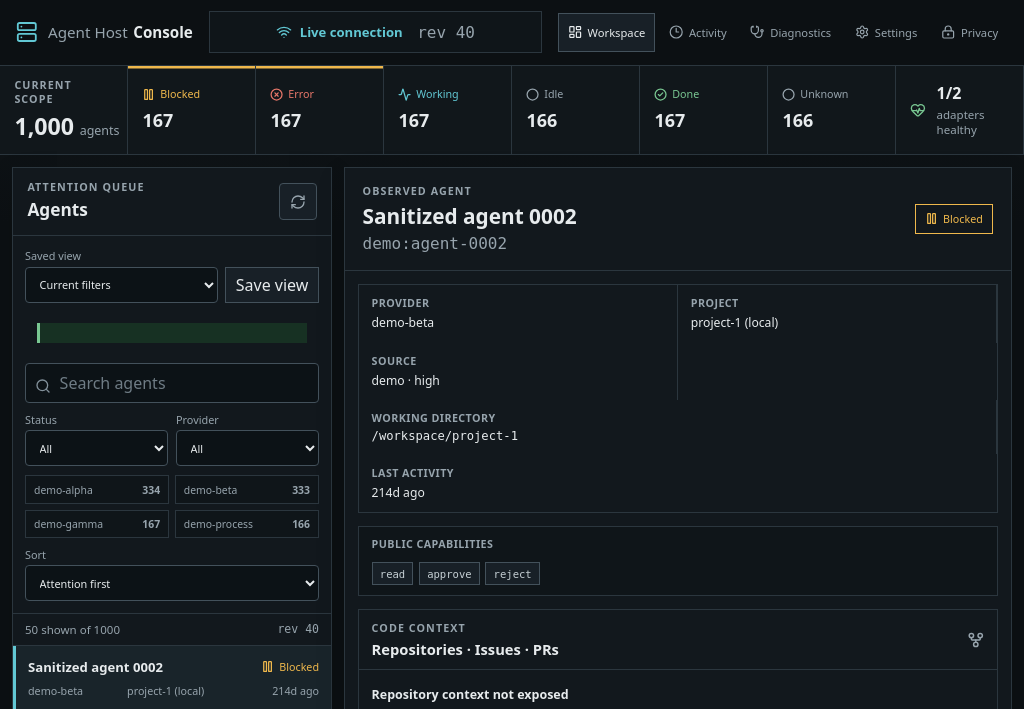
Test: evaluation dashboard › opens sanitized diagnostics and focuses search with the slash shortcut
expect the text "50 shown of 1000" is shown: met, box [25,622,120,637]
Type keys "/"
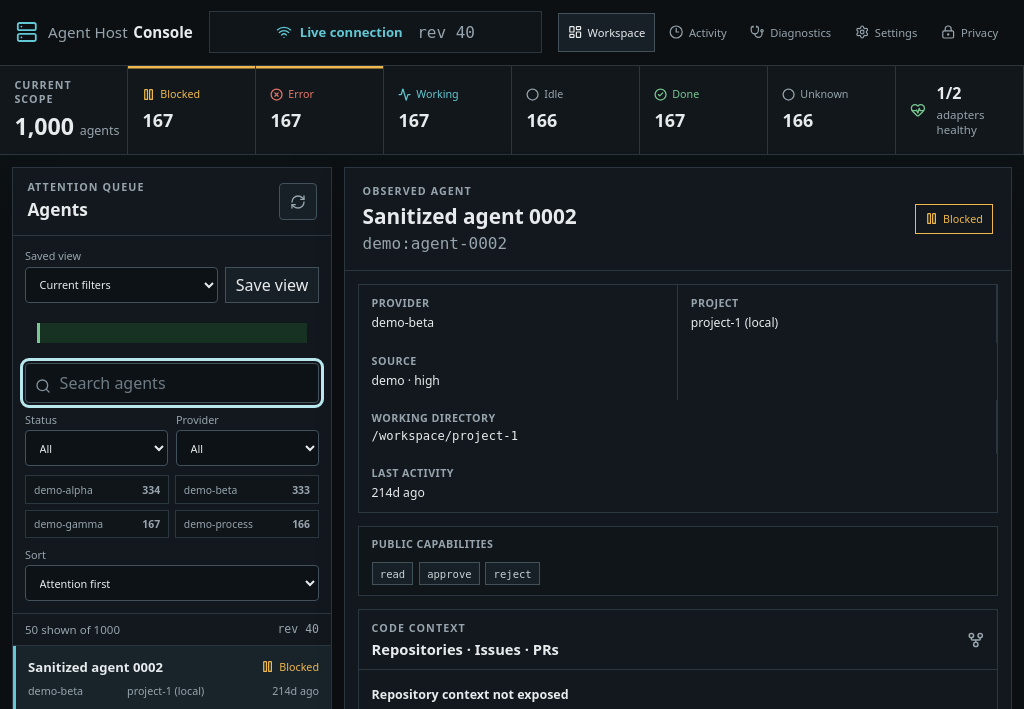
Press Escape
Click the button "Diagnostics" at (791, 32), box [740,13,841,52]
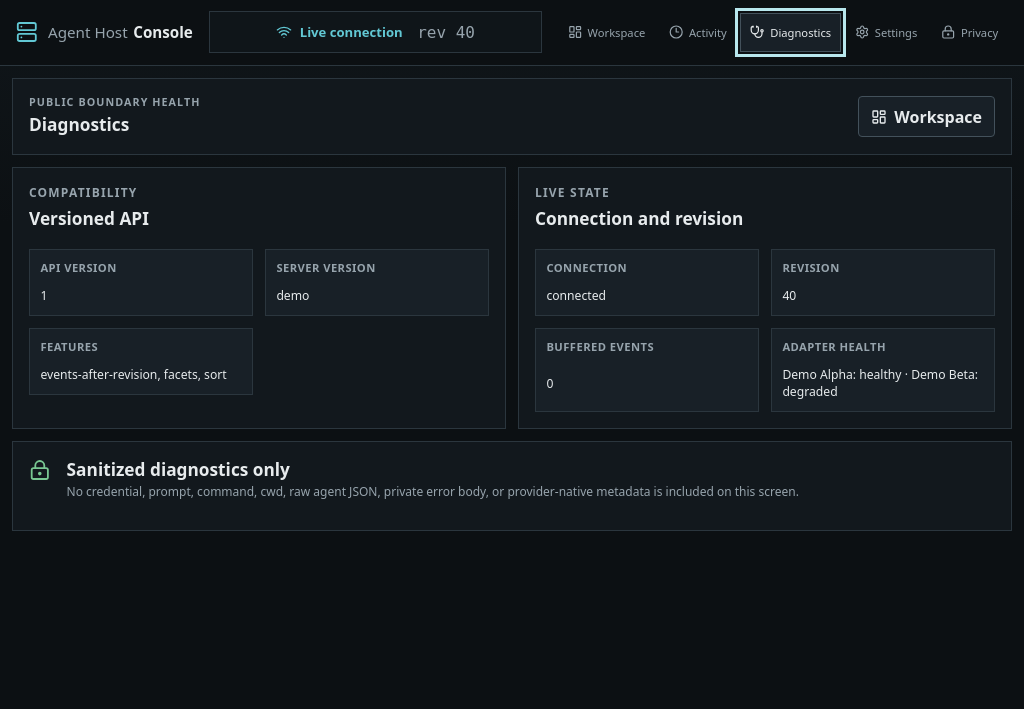
expect the heading "Diagnostics" is shown: met, box [29,113,129,136]
expect the heading "Sanitized diagnostics only" is shown: met, box [67,458,290,480]
expect the text "events-after-revision, facets, sort" is shown: met, box [40,366,242,383]
